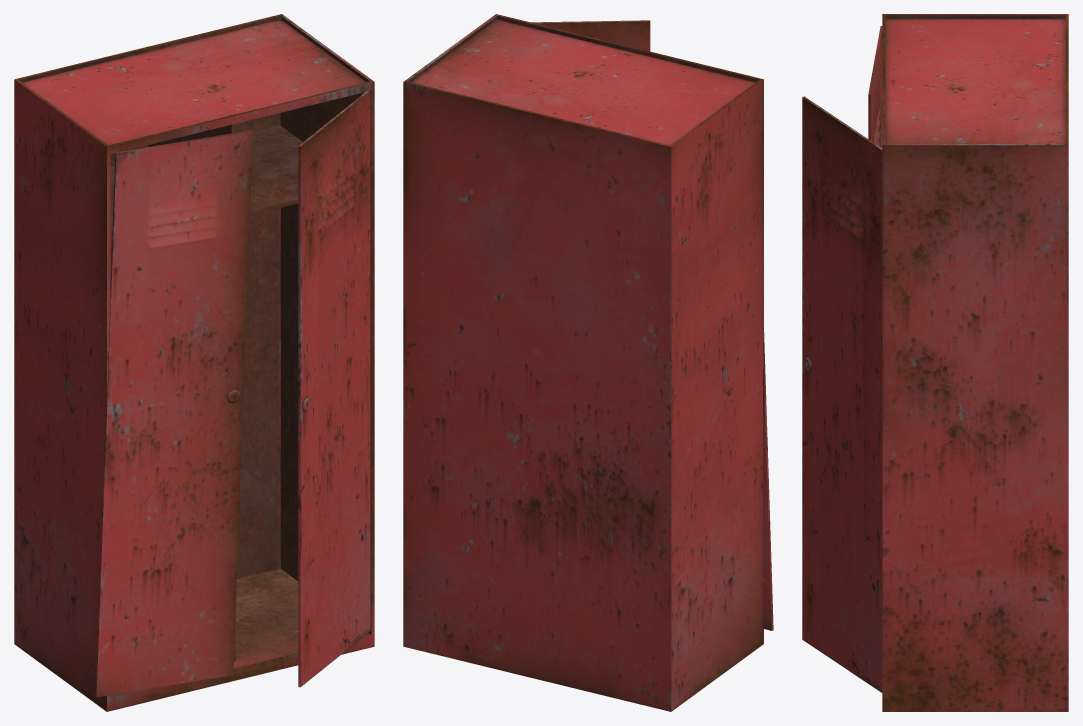
Rendered from locker1.fbx.
3 renders of one model, left to right at view 1: azimuth 30°, elevation 25°; view 2: azimuth 150°, elevation 25°; view 3: azimuth 270°, elevation 25°, orthographic.
Visible parts, largest first — view 1: Куб.014, Куб.012, Куб.013; view 2: Куб.014, Куб.013, Куб.012; view 3: Куб.014, Куб.013, Куб.012.
Boxes of the visible parts, left/top/right/bottom form: Куб.014: left=14, top=14, right=374, bottom=711; Куб.012: left=95, top=130, right=253, bottom=697; Куб.013: left=298, top=91, right=370, bottom=687; Куб.014: left=403, top=14, right=763, bottom=711; Куб.013: left=531, top=20, right=650, bottom=51; Куб.012: left=762, top=333, right=773, bottom=630; Куб.014: left=882, top=14, right=1068, bottom=711; Куб.013: left=802, top=96, right=882, bottom=692; Куб.012: left=868, top=26, right=882, bottom=147.
Size of the model in its own units: 83 by 161 by 68.65.
